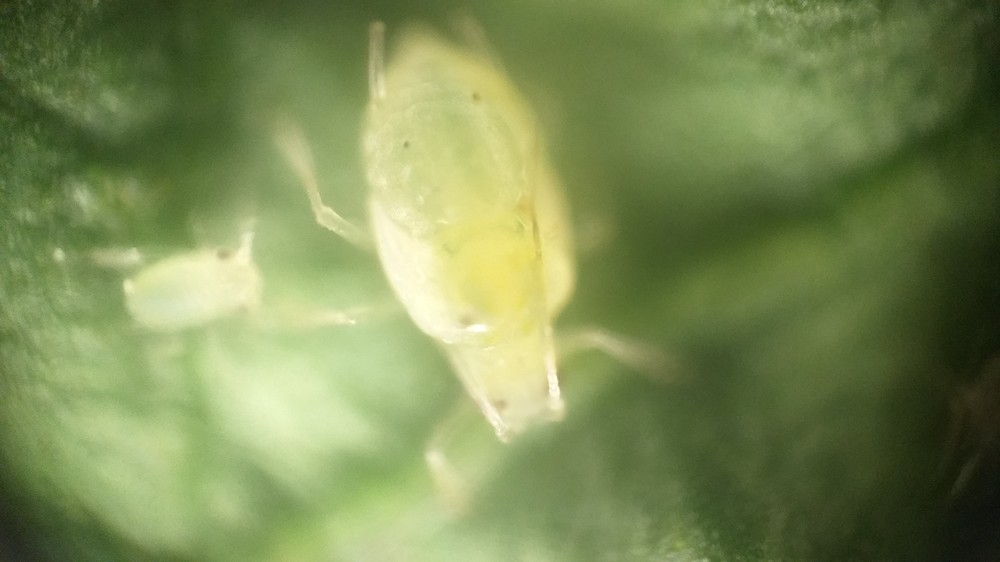Pulgon: (275, 18, 750, 529)
